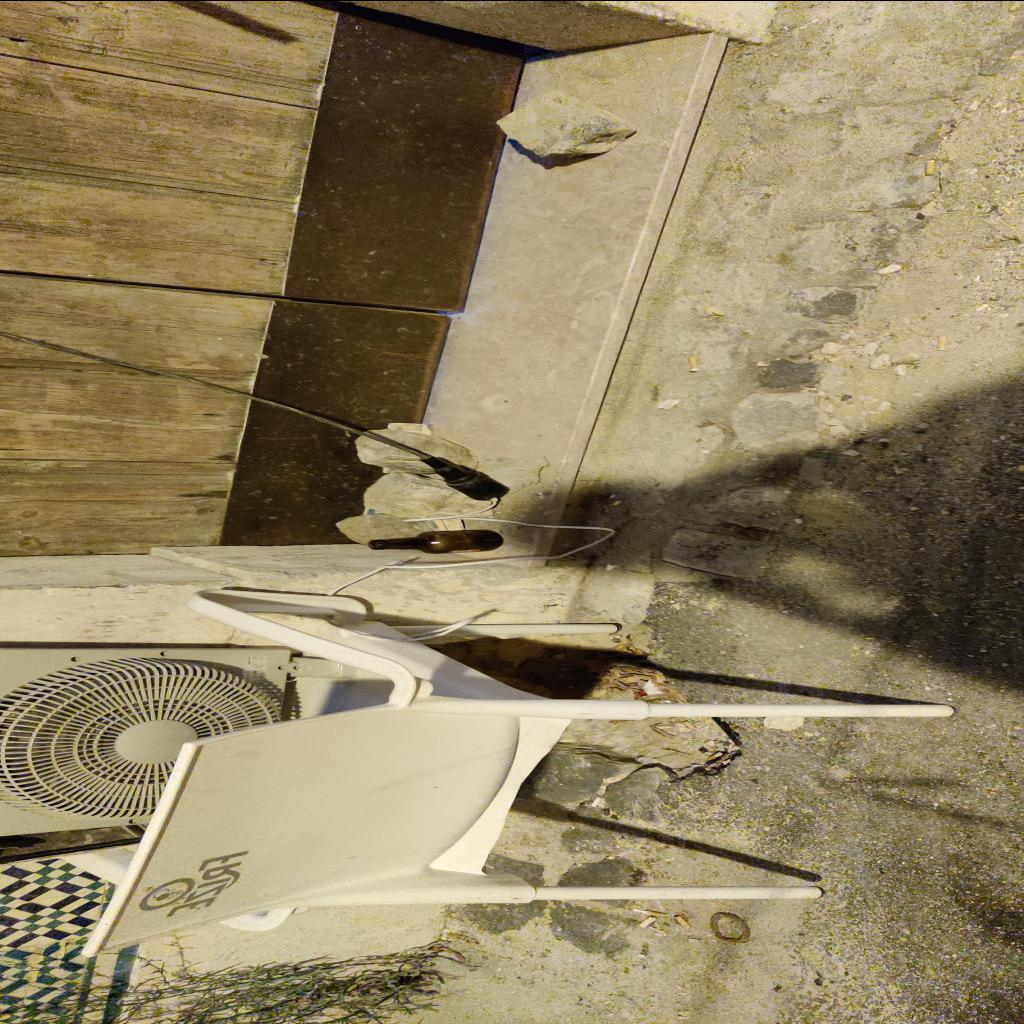Cigarette: (674, 914, 692, 928), (642, 908, 666, 918), (706, 750, 728, 760), (936, 334, 948, 350), (924, 159, 937, 173), (688, 355, 698, 371)
Glass bottle: (366, 528, 502, 552)
